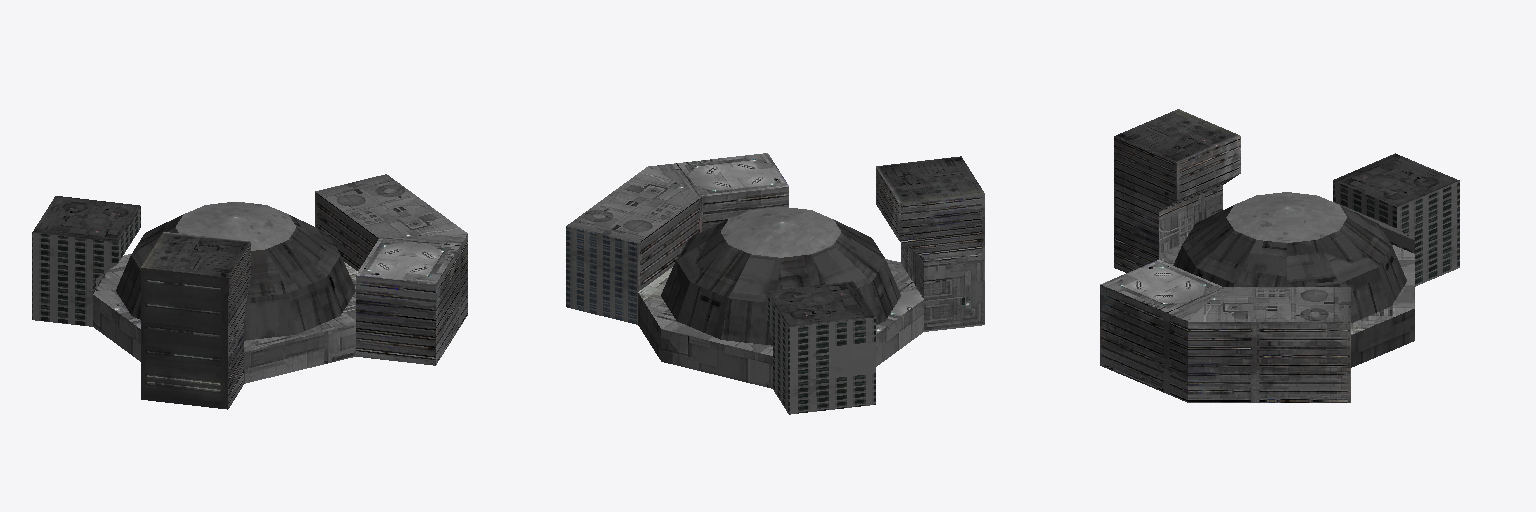
3 renders of one model, left to right at view 1: azimuth 30°, elevation 25°; view 2: azimuth 150°, elevation 25°; view 3: azimuth 270°, elevation 25°, orthographic.
Parts seen in each view (by area): view 1: building_35; view 2: building_35; view 3: building_35.
Boxes of the visible parts, <box> form: building_35: <box>32,174,467,409</box>; building_35: <box>566,153,984,414</box>; building_35: <box>1100,109,1459,402</box>.
Bounding box in the file's own units: 123 × 46.48 × 115.
1 materials, 1 textured.